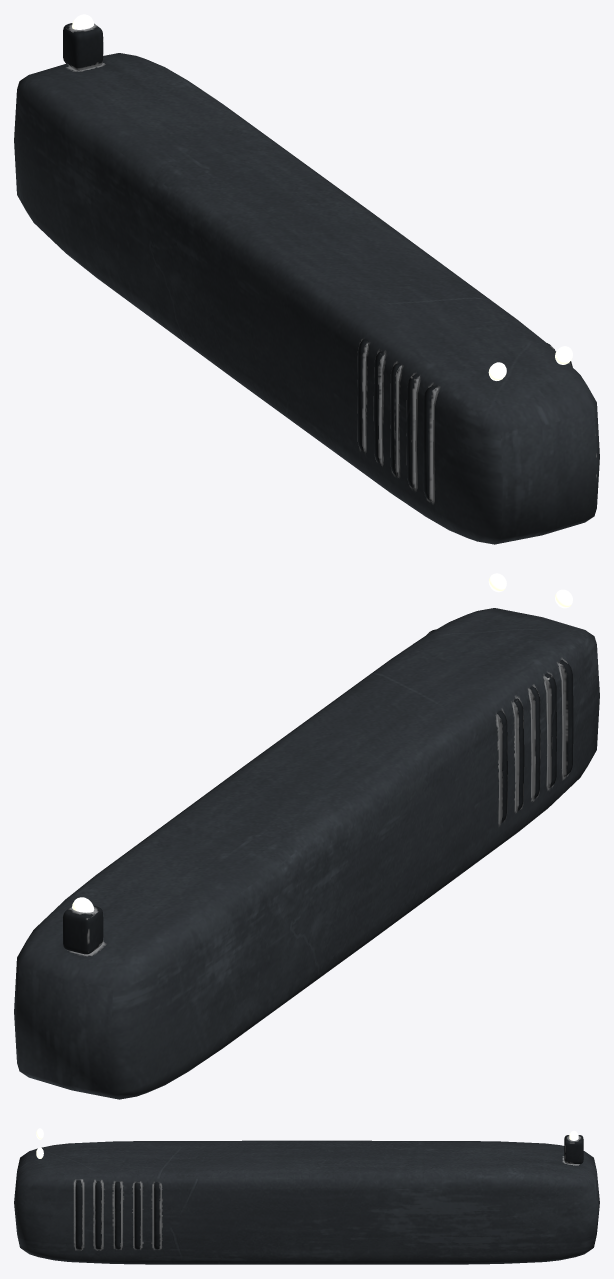
File: sp2_slide.glb
3 views of the same model, one above another, from view 1: azimuth 30°, elevation 25°; view 2: azimuth 150°, elevation 25°; view 3: azimuth 270°, elevation 25° (orthographic). The views are drawn at different scales.
Visible parts, largest first — view 1: sp2_slide; view 2: sp2_slide; view 3: sp2_slide.
Part boxes in pixels (x1,y1,x2,y2): sp2_slide: [14, 14, 599, 544]; sp2_slide: [14, 573, 599, 1099]; sp2_slide: [14, 1128, 599, 1264].
Size of the model in its own units: 0.031 by 0.0402 by 0.18.
2 materials, 1 textured.
